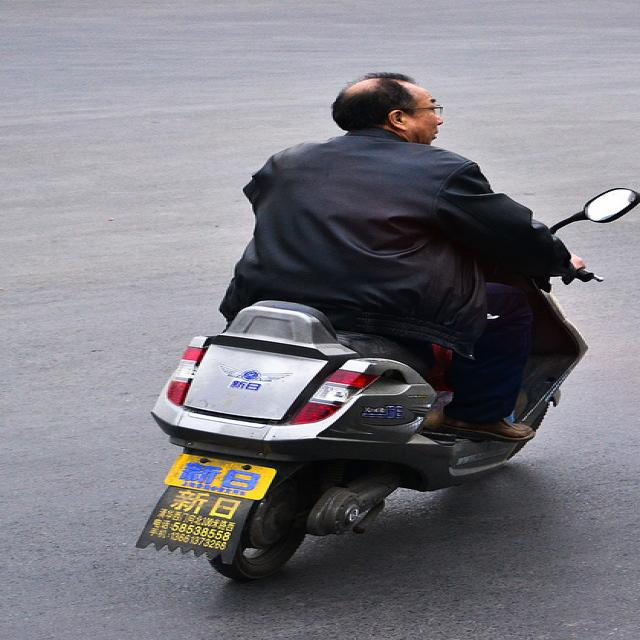motor: (136, 279, 580, 577)
